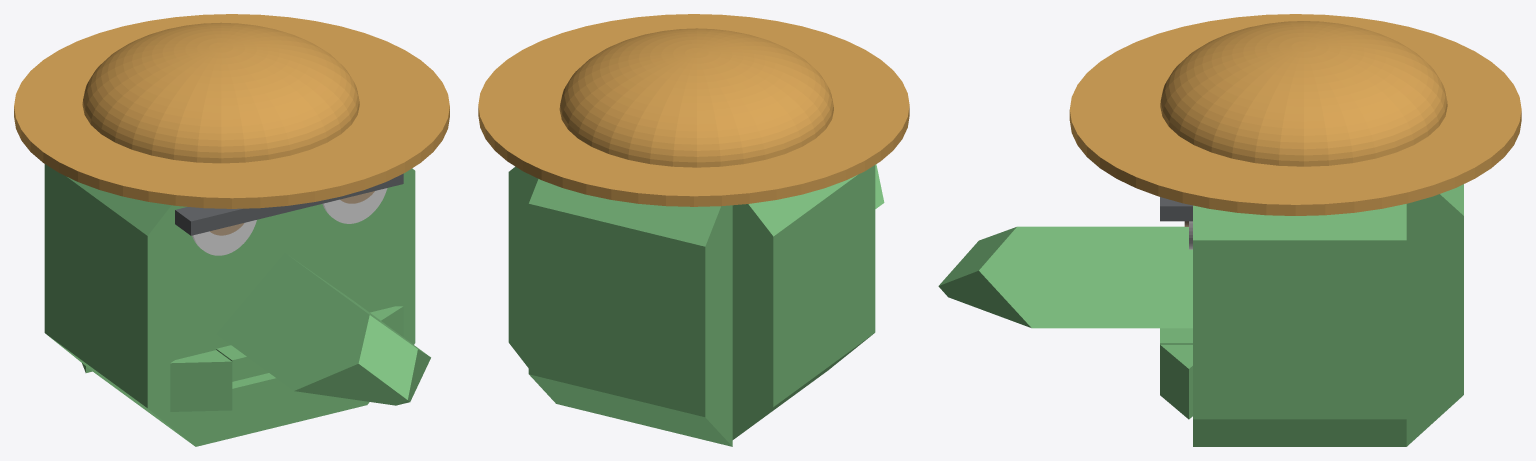
Rendered from goblin_head_1.glb.
3 renders of one model, left to right at view 1: azimuth 30°, elevation 25°; view 2: azimuth 150°, elevation 25°; view 3: azimuth 270°, elevation 25°, orthographic. The views are drawn at different scales.
Visible parts, largest first — view 1: Mesh_Mesh_head_geo.001_lambert2SG.001; view 2: Mesh_Mesh_head_geo.001_lambert2SG.001; view 3: Mesh_Mesh_head_geo.001_lambert2SG.001.
Boxes of the visible parts, x1,y1,x2,y2 form: Mesh_Mesh_head_geo.001_lambert2SG.001: (14, 14, 449, 446); Mesh_Mesh_head_geo.001_lambert2SG.001: (478, 14, 909, 446); Mesh_Mesh_head_geo.001_lambert2SG.001: (938, 14, 1521, 446).
Size of the model in its own units: 0.055 by 0.0475 by 0.071.
